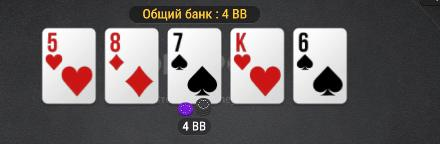5h: (43, 30, 95, 103)
6s: (295, 29, 346, 103)
7s: (168, 29, 221, 103)
8d: (106, 29, 158, 103)
Kh: (232, 29, 283, 103)
